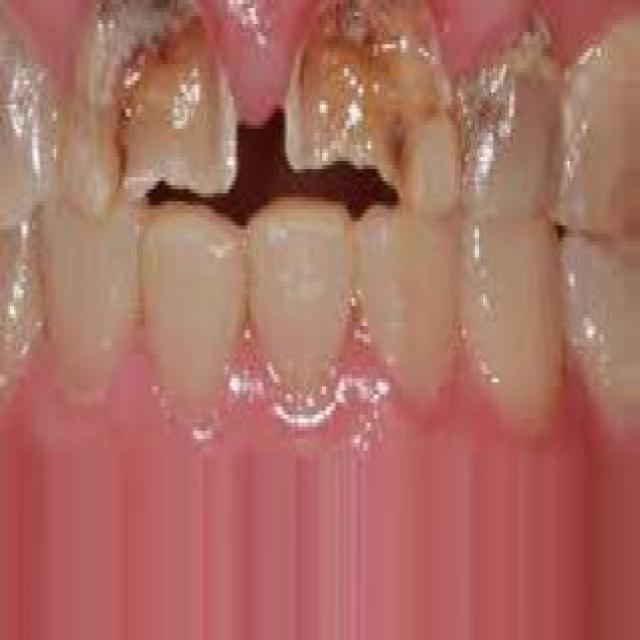caries: (48, 0, 253, 209), (275, 0, 457, 220)
